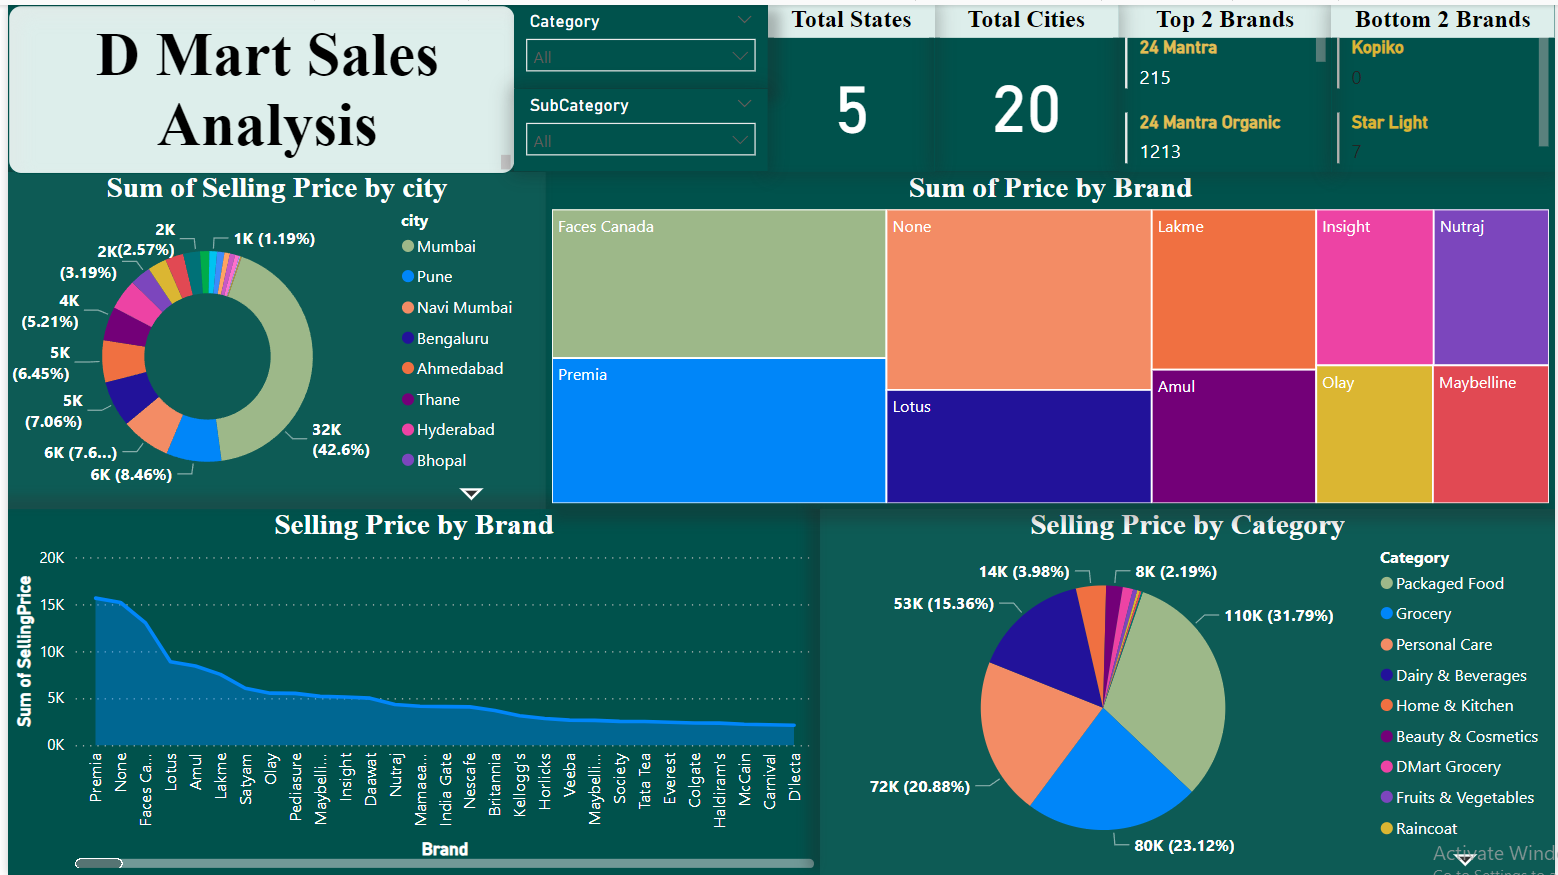

This screenshot's page, from the dashboard's own definition file:
{"tool":"powerbi","page":{"name":"D-mart analysis","canvas":[1280,720],"ordinal":0},"visuals":[{"type":"areaChart","title":"Selling Price by Brand","fields":{"Category":["DMart Products.Brand"],"Y":["Sum(DMart Products.SellingPrice)"]},"box":[0,417.3,672.1,302.5],"z":0},{"type":"pieChart","title":" Selling Price by Category","fields":{"Category":["DMart Products.Category","DMart Products.SubCategory"],"Y":["Sum(DMart Products.SellingPrice)"]},"box":[671.7,417.1,608.5,302.9],"z":1000},{"type":"donutChart","title":"Sum of  Selling Price by city","fields":{"Y":["Sum(DMart Products.SellingPrice)"],"Category":["dmart_store.city","dmart_store.Loaction.1"]},"box":[0,137.9,445.2,279.2],"z":2000},{"type":"treemap","fields":{"Values":["Sum(DMart Products.Price)"],"Group":["DMart Products.Brand"]},"box":[445.2,137.9,835,279.2],"z":3000},{"type":"multiRowCard","title":"Top 2 Brands","fields":{"Values":["DMart Products.Brand","Sum(DMart Products.SellingPrice)"]},"box":[919.3,0,175.6,137.9],"z":4000},{"type":"multiRowCard","title":"Bottom 2 Brands","fields":{"Values":["DMart Products.Brand","Sum(DMart Products.SellingPrice)"]},"box":[1094.9,0,185.3,137.9],"z":5000},{"type":"card","title":"Total Cities","fields":{"Values":["Count(dmart_store.city)"]},"box":[766.5,0,152.8,137],"z":6000},{"type":"card","title":"Total States","fields":{"Values":["Count(dmart_store.state)"]},"box":[628.7,0,137.9,137.9],"z":7000},{"type":"textbox","title":"  D Mart Sales Analysis","box":[0,0,420.3,140.1],"z":8000},{"type":"slicer","fields":{"Values":["DMart Products.Category"]},"box":[418.8,0,209.9,69.4],"z":9000},{"type":"slicer","fields":{"Values":["DMart Products.SubCategory"]},"box":[418.8,69.4,209.9,68.5],"z":10000}]}

Visuals, with their boxes in screenshot pixels (x1, y1, x2, y2), scaled from the page's 1280x720 canvas onto the 1558x875 screenshot:
"Selling Price by Brand" areaChart: (x1=0, y1=507, x2=818, y2=874)
" Selling Price by Category" pieChart: (x1=818, y1=507, x2=1557, y2=874)
"Sum of  Selling Price by city" donutChart: (x1=0, y1=168, x2=542, y2=507)
treemap - Sum(DMart Products.Price) x DMart Products.Brand: (x1=542, y1=168, x2=1557, y2=507)
"Top 2 Brands" multiRowCard: (x1=1119, y1=0, x2=1333, y2=168)
"Bottom 2 Brands" multiRowCard: (x1=1333, y1=0, x2=1557, y2=168)
"Total Cities" card: (x1=933, y1=0, x2=1119, y2=166)
"Total States" card: (x1=765, y1=0, x2=933, y2=168)
"  D Mart Sales Analysis" textbox: (x1=0, y1=0, x2=512, y2=170)
slicer - DMart Products.Category: (x1=510, y1=0, x2=765, y2=84)
slicer - DMart Products.SubCategory: (x1=510, y1=84, x2=765, y2=168)
